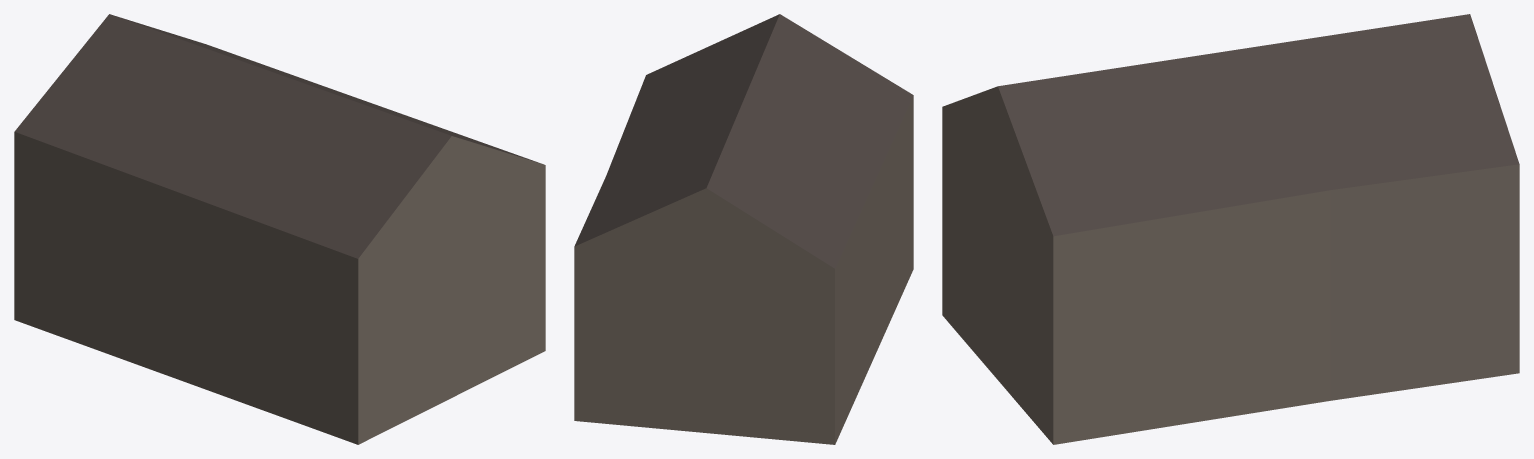
3 views of the same model, side by side, from view 1: azimuth 30°, elevation 25°; view 2: azimuth 150°, elevation 25°; view 3: azimuth 270°, elevation 25° (orthographic). The views are drawn at different scales.
Parts seen in each view (by area): view 1: HP-w1198840855; view 2: HP-w1198840855; view 3: HP-w1198840855.
Boxes of the visible parts, x1=… form: HP-w1198840855: x1=14, y1=14, x2=545, y2=444; HP-w1198840855: x1=574, y1=14, x2=913, y2=444; HP-w1198840855: x1=942, y1=14, x2=1519, y2=444.
Bounding box in the file's own units: 12.38 × 8.45 × 15.05.
